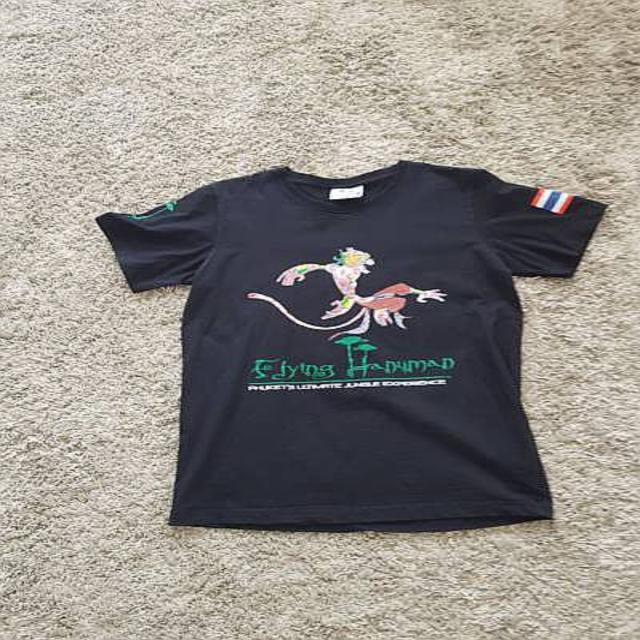T_SHIRT: (84, 154, 630, 546)
